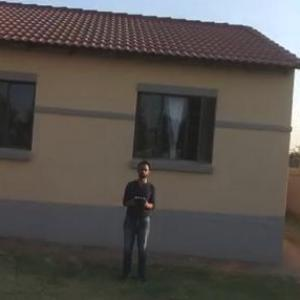follow: (116, 152, 160, 293)
